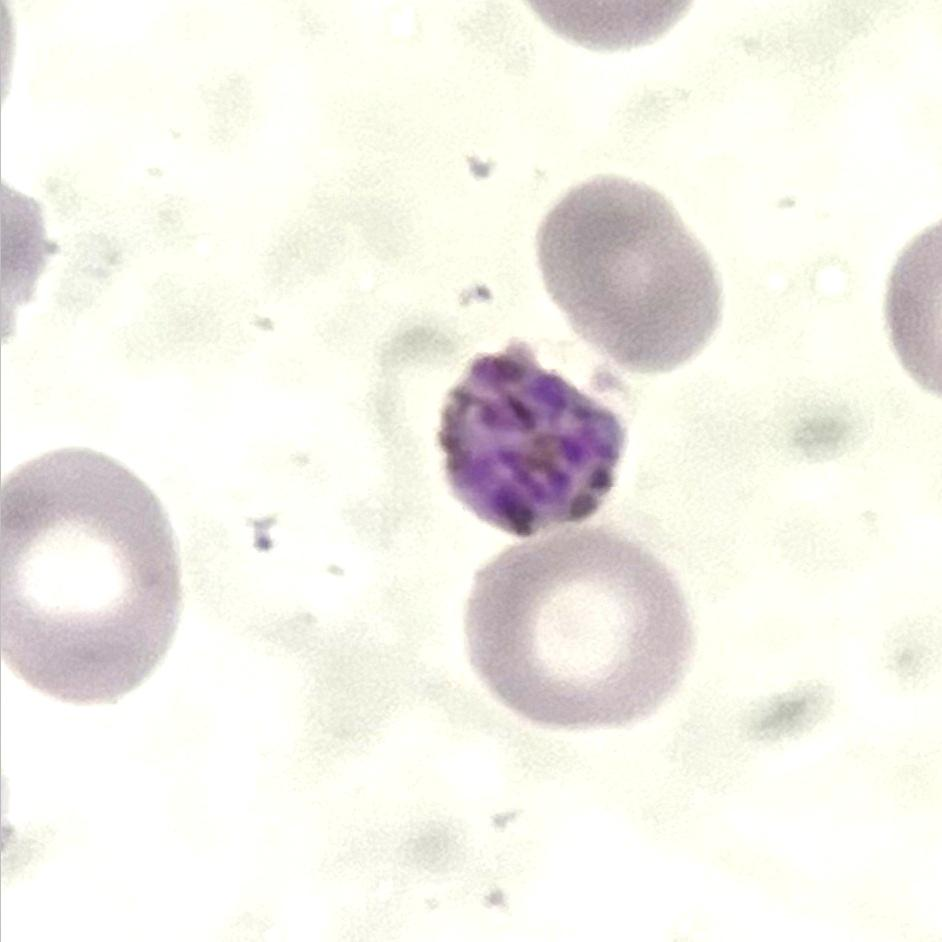Infected: (435, 333, 637, 539)
Uninfected: (0, 451, 182, 702), (465, 541, 688, 731), (530, 176, 728, 374)
